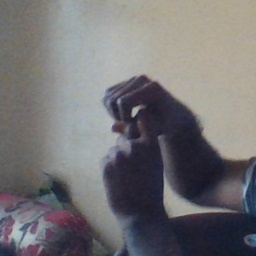Q: (88, 70, 190, 201)
